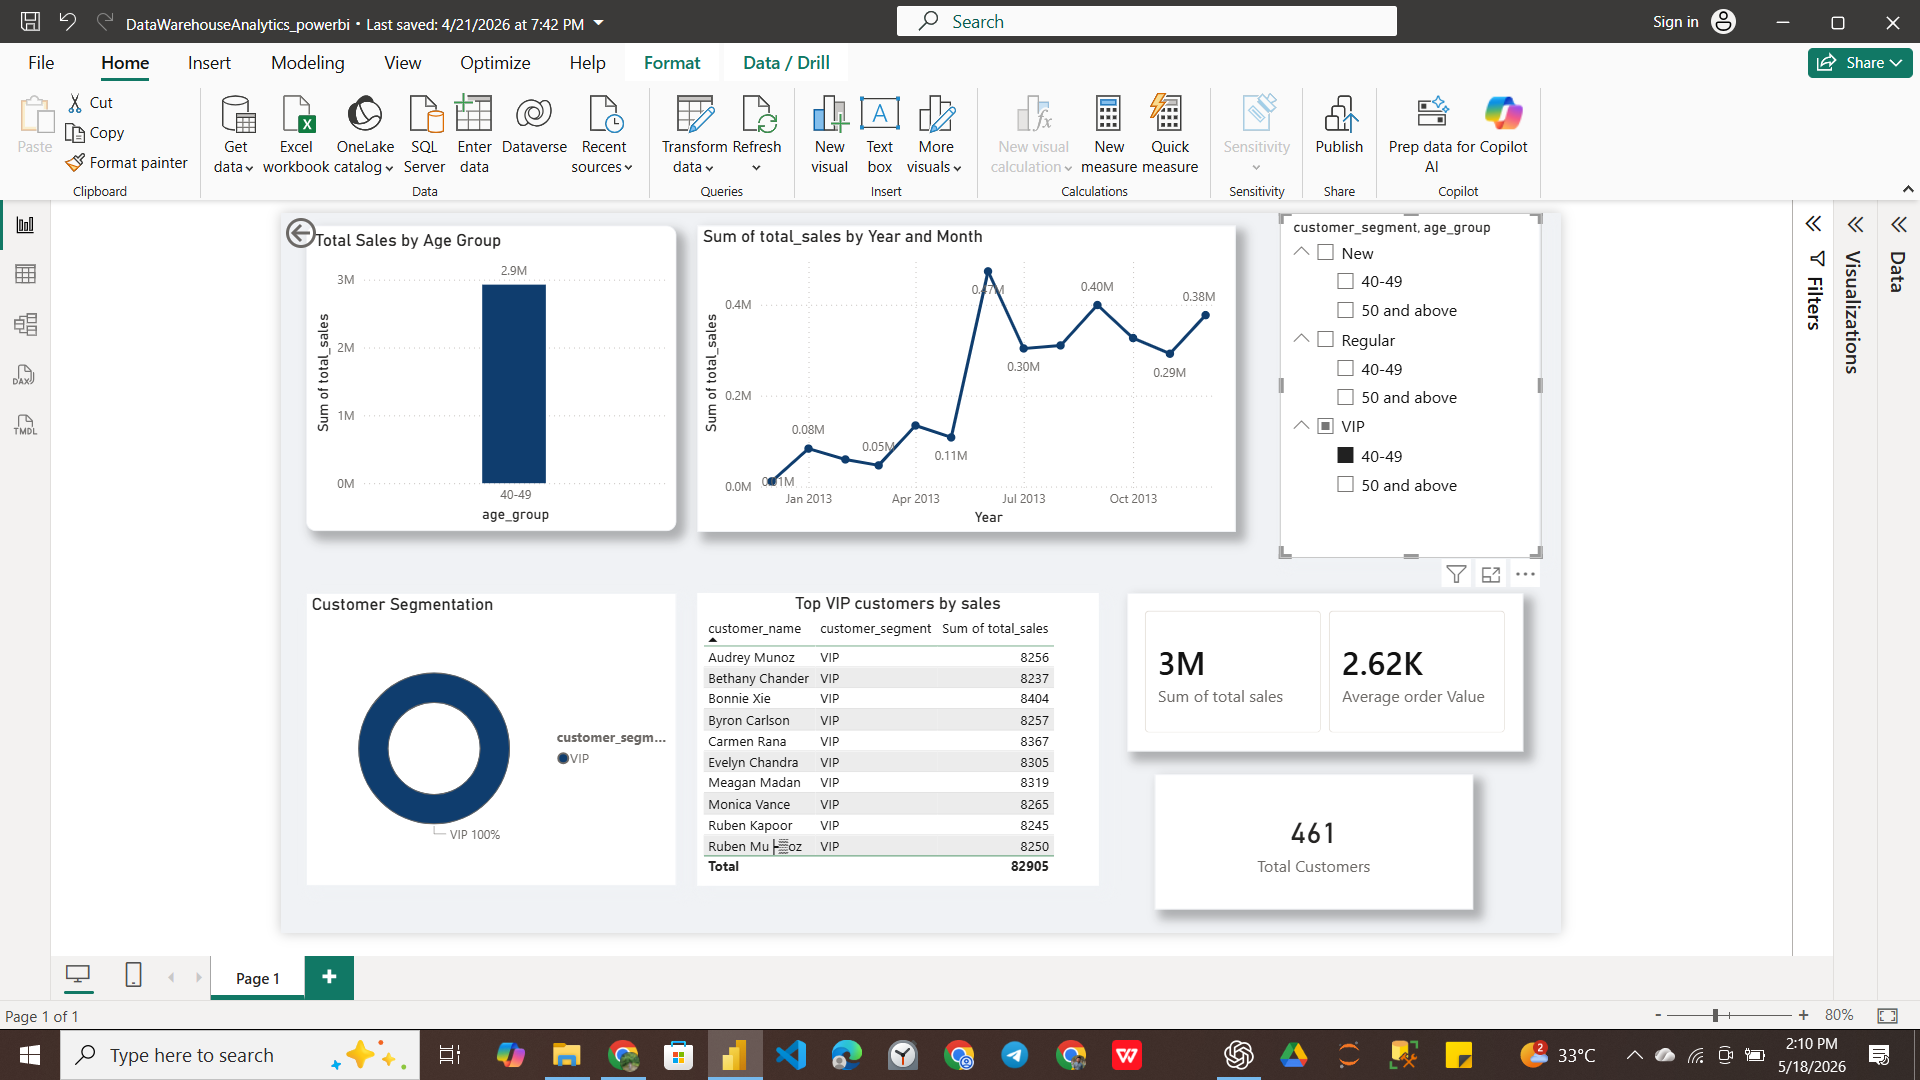

This screenshot's page, from the dashboard's own definition file:
{"tool":"powerbi","page":{"name":"Page 1","canvas":[1280,720],"ordinal":0},"visuals":[{"type":"clusteredColumnChart","title":"Total Sales by Age Group","fields":{"Category":["gold report_customers.age_group"],"Y":["Sum(gold report_customers.total_sales)"]},"box":[25.2,12.6,370.2,305.7],"z":0},{"type":"lineChart","fields":{"Y":["Sum(gold report_customers.total_sales)"],"Category":["gold report_customers.last_order_date.Variation.Date Hierarchy.Year","gold report_customers.last_order_date.Variation.Date Hierarchy.Month"]},"box":[416.2,12.5,538.8,306.2],"z":1000},{"type":"slicer","fields":{"Values":["gold report_customers.customer_segment","gold report_customers.age_group"]},"box":[999.2,0,260.3,344.6],"z":2000},{"type":"actionButton","box":[0,0,100,40],"z":3000},{"type":"donutChart","title":"Customer Segmentation","fields":{"Category":["gold report_customers.customer_segment"],"Y":["CountNonNull(gold report_customers.customer_key)"]},"box":[25,380,370,292.5],"z":4000},{"type":"tableEx","title":"Top VIP customers by sales","fields":{"Values":["gold report_customers.customer_name","gold report_customers.customer_segment","Sum(gold report_customers.total_sales)"]},"box":[416.2,380,401.2,292.5],"z":5000},{"type":"cardVisual","fields":{"Data":["Sum(gold report_customers.total_sales)","Avg(gold report_customers.avg_order_value)"]},"box":[846.2,380,396.2,158.8],"z":6000},{"type":"card","fields":{"Values":["Count(gold report_customers.customer_key)"]},"box":[873.8,561.2,318.8,135],"z":7000}]}

Visuals, with their boxes on the page's 1280x720 design canvas (x1, y1, x2, y2). These are canvas units, not pixel positions in the 1920x1080 screenshot, which may show the page scaled, cropped or inside an application window:
"Total Sales by Age Group" clusteredColumnChart: rect(25, 13, 395, 318)
lineChart - Sum(gold report_customers.total_sales) x gold report_customers.last_order_date.Variation.Date Hierarchy.Year: rect(416, 12, 955, 319)
slicer - gold report_customers.customer_segment x gold report_customers.age_group: rect(999, 0, 1260, 345)
actionButton: rect(0, 0, 100, 40)
"Customer Segmentation" donutChart: rect(25, 380, 395, 672)
"Top VIP customers by sales" tableEx: rect(416, 380, 817, 672)
cardVisual - Sum(gold report_customers.total_sales) x Avg(gold report_customers.avg_order_value): rect(846, 380, 1242, 539)
card - Count(gold report_customers.customer_key): rect(874, 561, 1193, 696)
